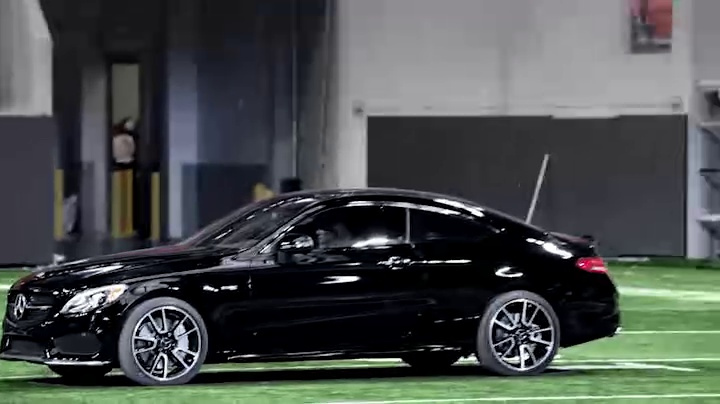amg: (3, 190, 624, 382)
